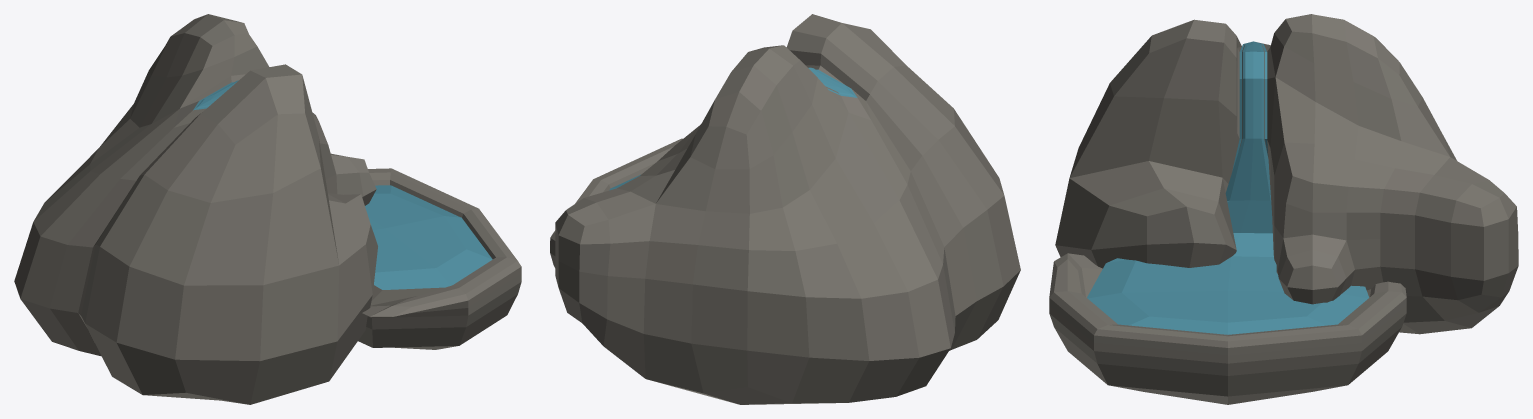
The model's file is Rock3.fbx.
3 renders of one model, left to right at view 1: azimuth 30°, elevation 25°; view 2: azimuth 150°, elevation 25°; view 3: azimuth 270°, elevation 25°, orthographic. The views are drawn at different scales.
Parts seen in each view (by area): view 1: Cube; view 2: Cube; view 3: Cube.
Boxes of the visible parts, box(x1,y1,x2,y2) form: Cube: box(14, 14, 521, 404); Cube: box(550, 14, 1020, 404); Cube: box(1049, 14, 1518, 404).
Bounding box in the file's own units: 206 × 146 × 198.
